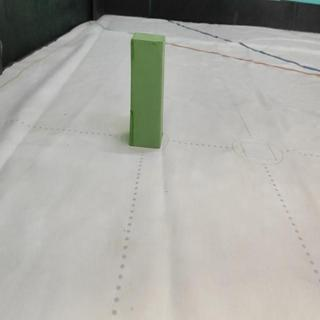greenbox: (130, 31, 166, 150)
